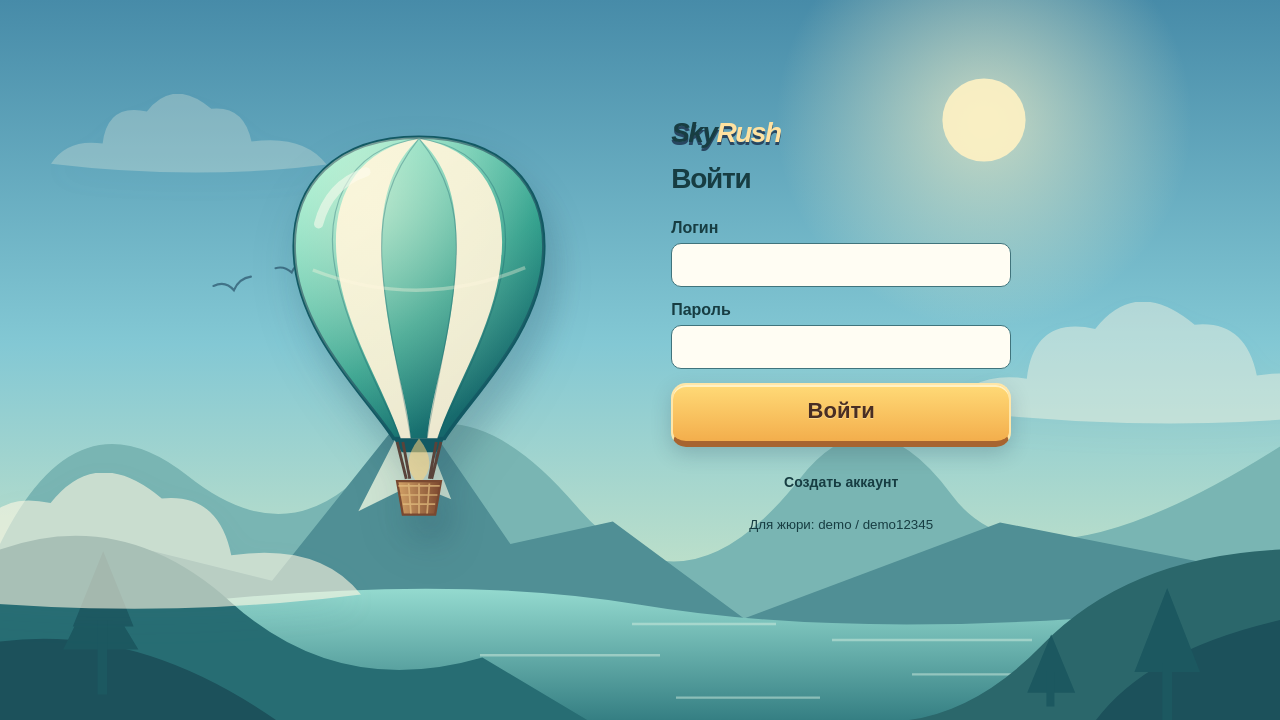
Scenario: invalid credentials stay visible and do not enter game
Expected: the button "Войти" is shown, x1=671 y1=382 x2=1011 y2=446
Type "alice" into the field labelled "Логин". click: (841, 264)
box: x1=671 y1=242 x2=1011 y2=286
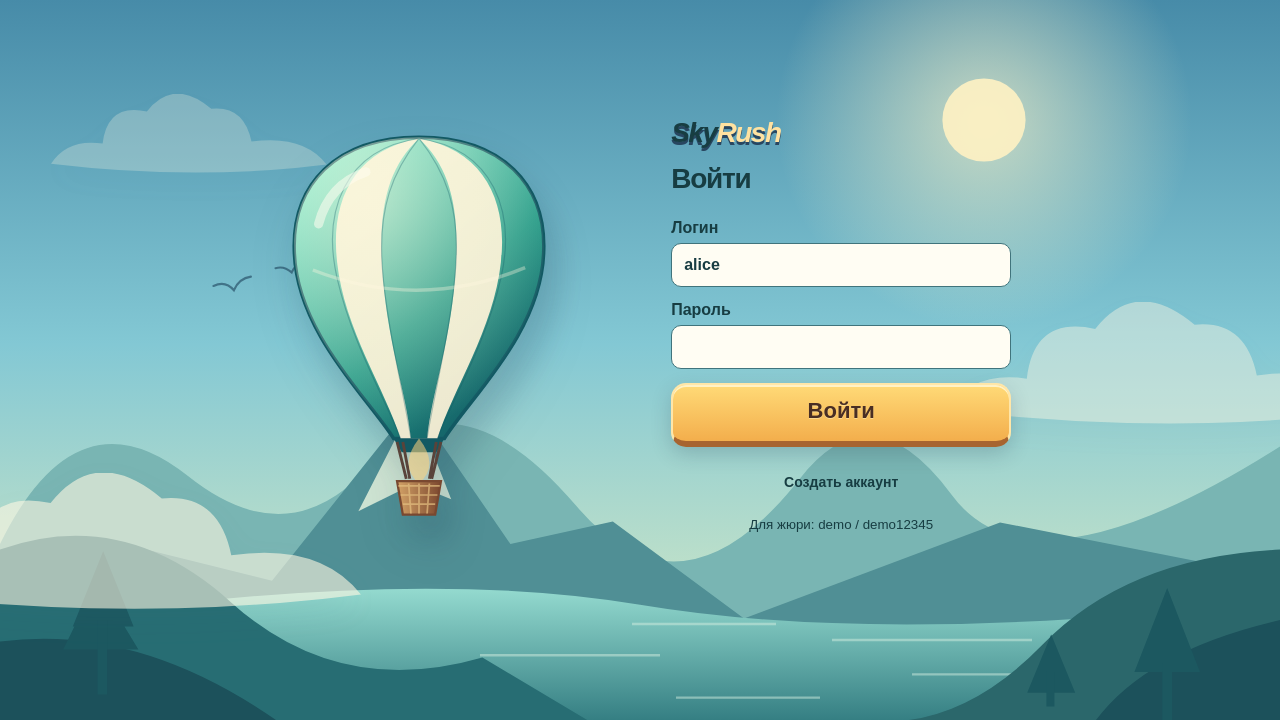
Type "password123" into the password field labelled "Пароль". click: (841, 346)
box: x1=671 y1=324 x2=1011 y2=368
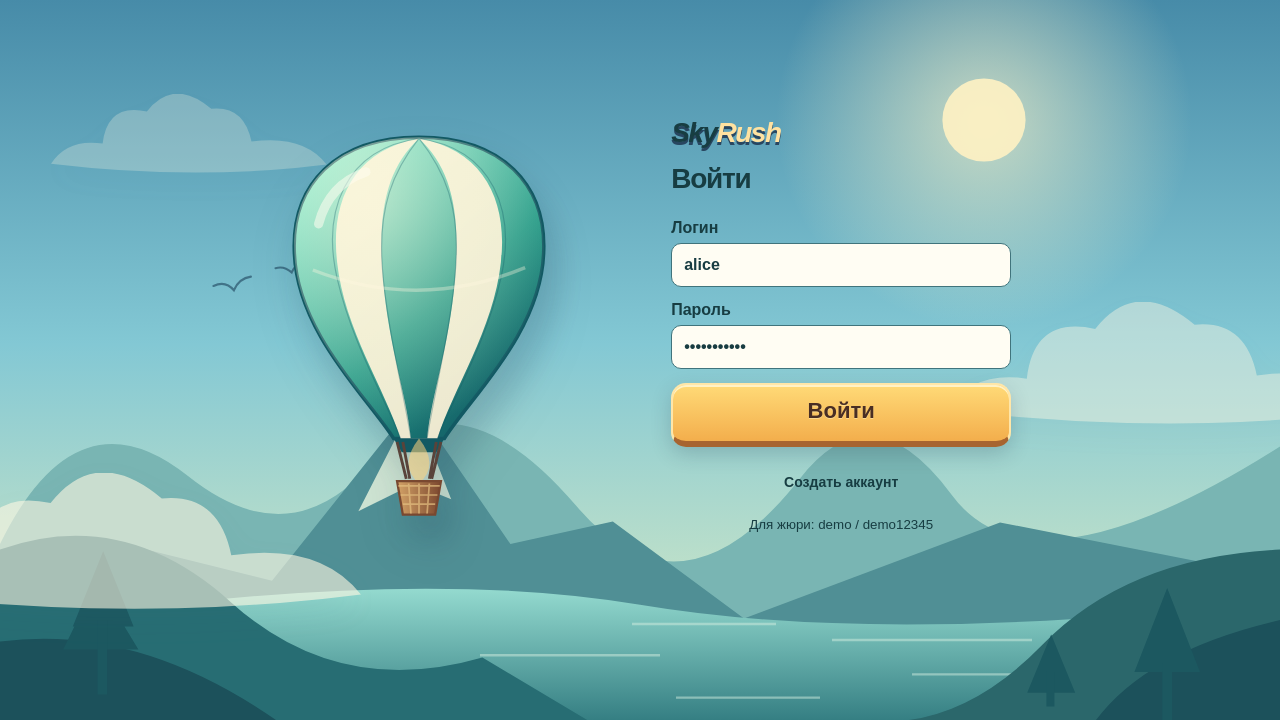
Click the button "Войти". click: click(841, 414)
box: x1=671 y1=382 x2=1011 y2=446
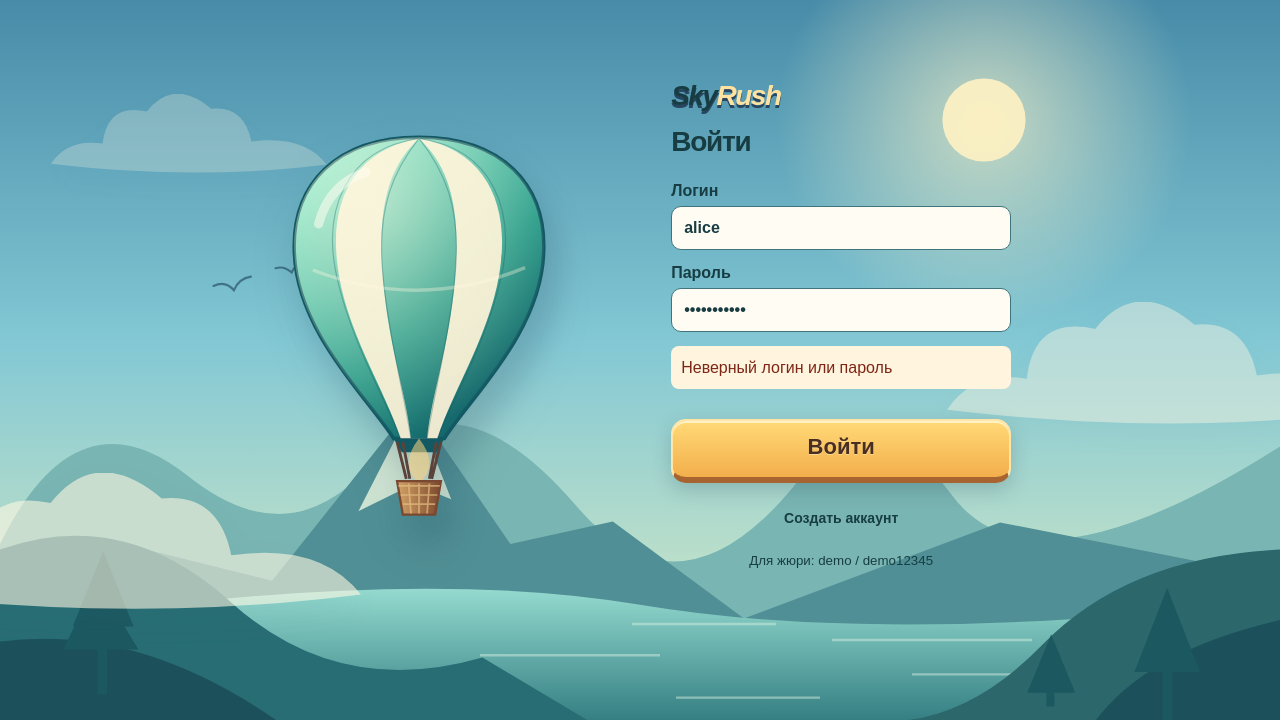
Now the text "Неверный логин или пароль" is shown, box x1=671 y1=346 x2=1011 y2=389
